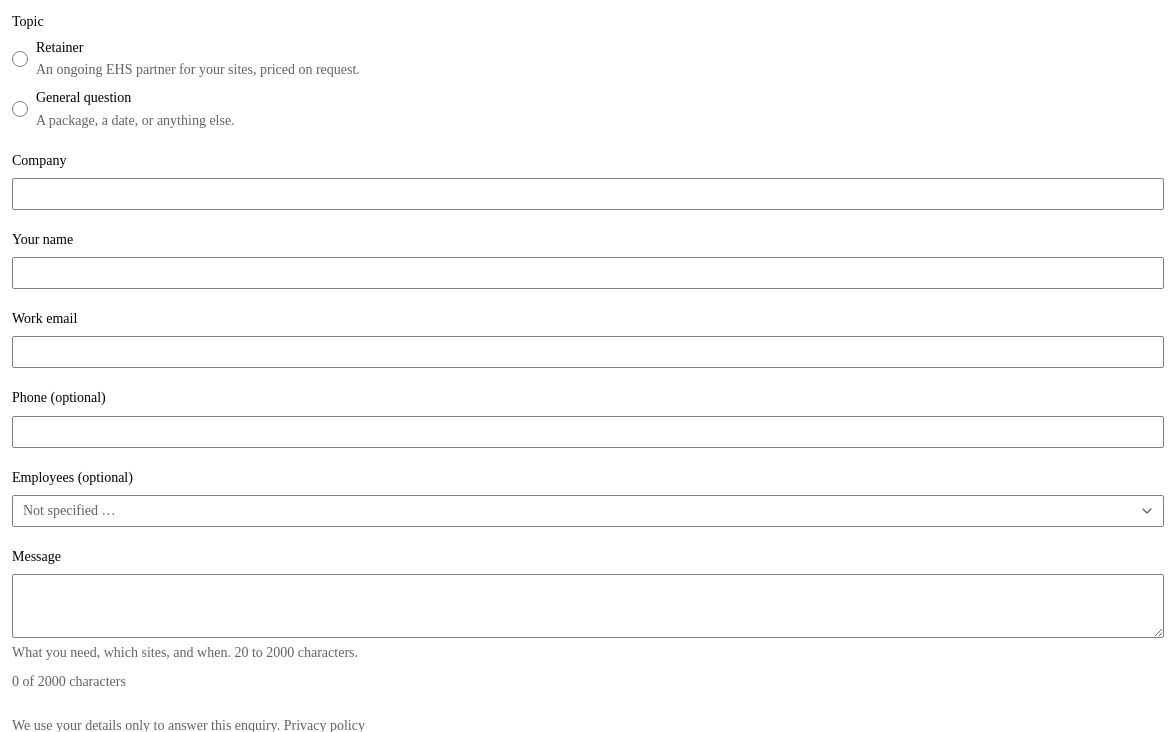
Test: EnquiryForm (AC-8) › counts the message characters live
The image size is (1176, 732).
Expected: the text "0 of 2000 characters" is shown, x1=12 y1=674 x2=126 y2=689
Type "Hello" into the text box labelled "Message" at (588, 606), box x1=12 y1=574 x2=1164 y2=638
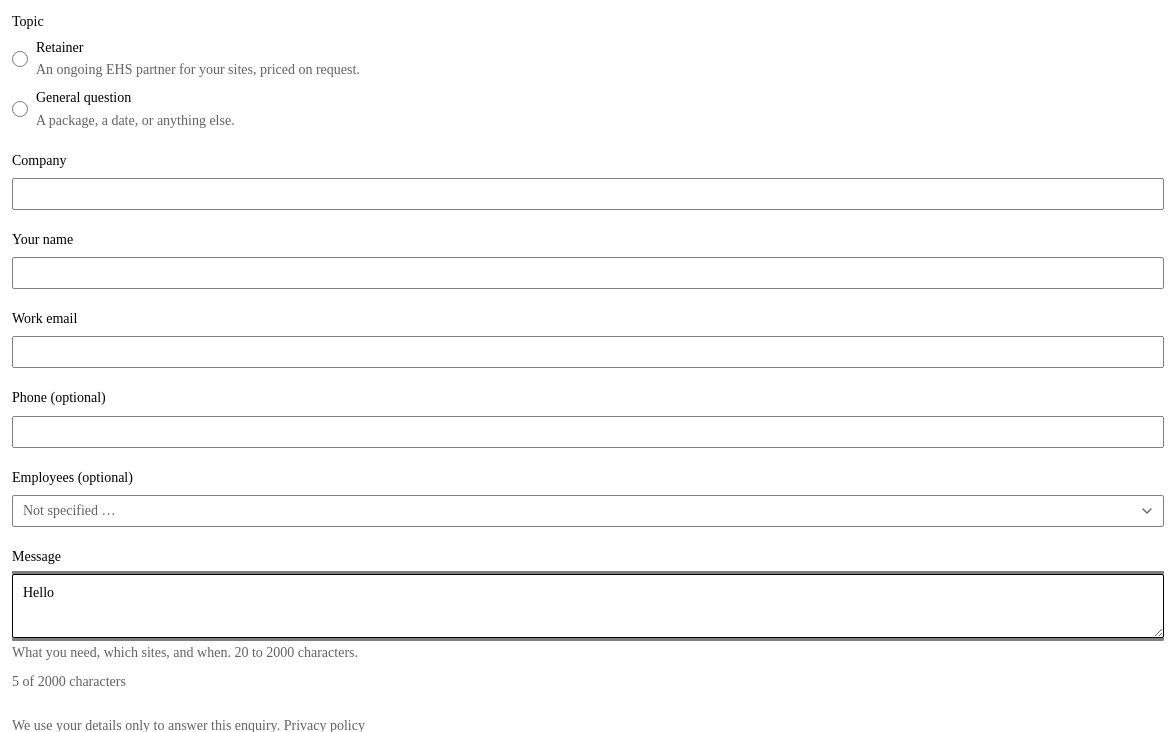
Expected: the text "5 of 2000 characters" is shown, x1=12 y1=674 x2=126 y2=689
